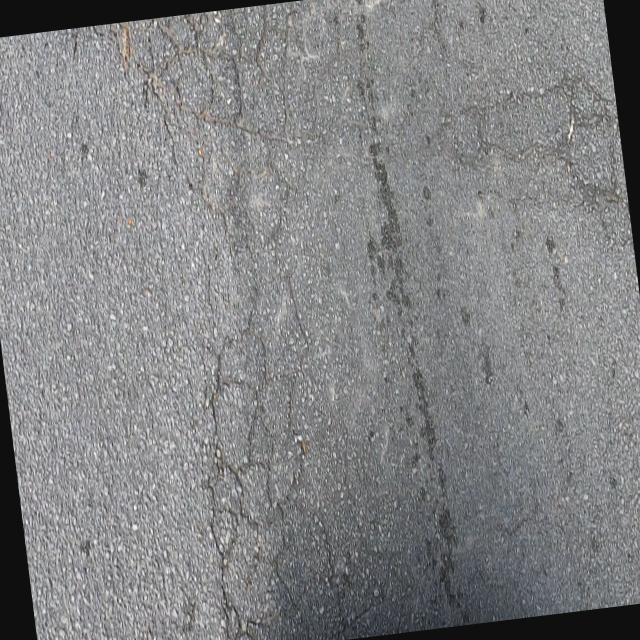Retak-Buaya: (85, 0, 384, 640), (451, 57, 624, 218)
